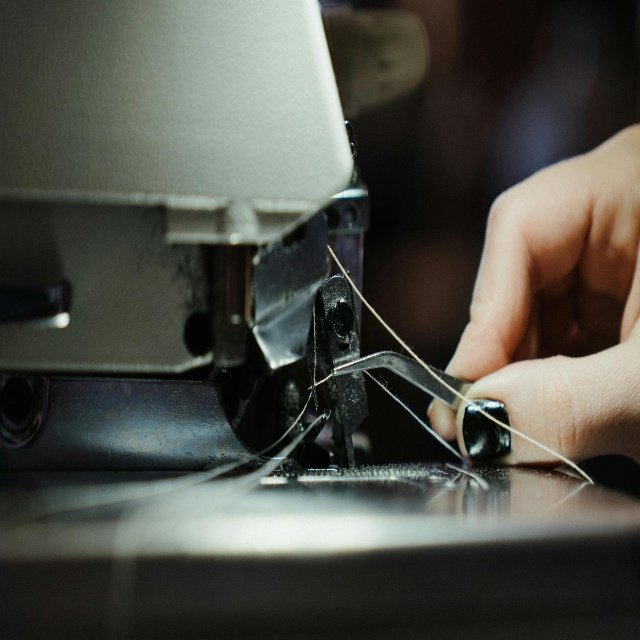Sin_guantes: (427, 118, 640, 466)
